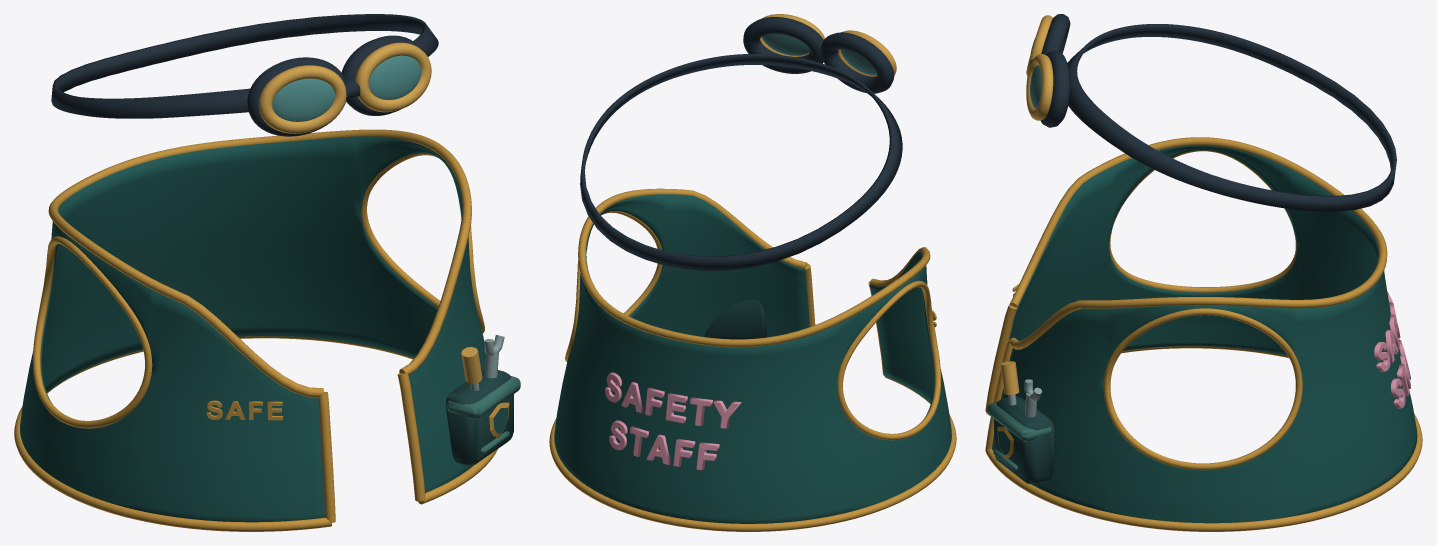
File: mole-costume-safe-chance.glb
The picture shows the model from 3 angles, left to right: view 1: azimuth 30°, elevation 25°; view 2: azimuth 150°, elevation 25°; view 3: azimuth 270°, elevation 25°; orthographic projection. The views are drawn at different scales.
Parts seen in each view (by area): view 1: Costume_Skinned; view 2: Costume_Skinned; view 3: Costume_Skinned.
Part boxes in pixels (x1=…): Costume_Skinned: x1=14, y1=14, x2=520, y2=531; Costume_Skinned: x1=549, y1=14, x2=956, y2=531; Costume_Skinned: x1=985, y1=14, x2=1422, y2=531.
Size of the model in its own units: 2.01 by 2.03 by 1.98.
